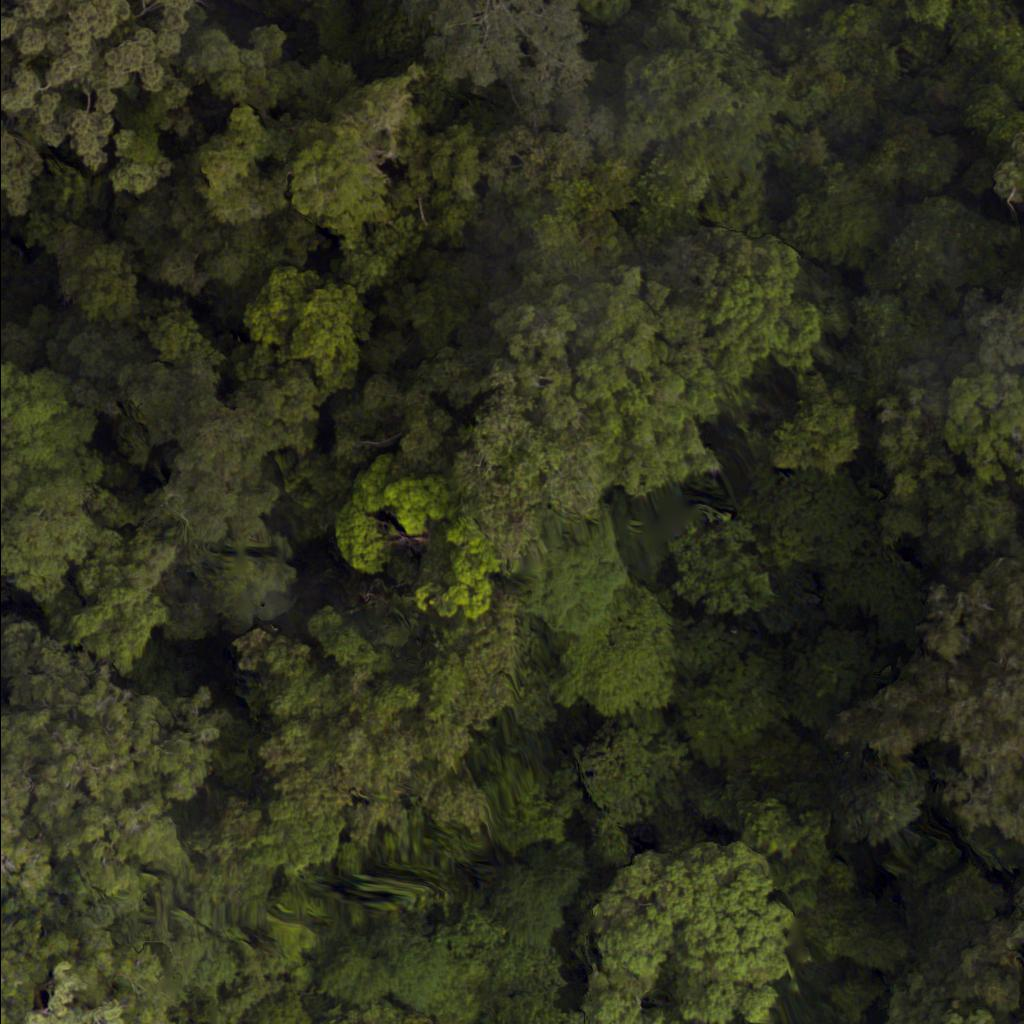crown: (0, 374, 189, 696), (842, 581, 1023, 857), (585, 835, 796, 1023), (380, 0, 600, 113), (0, 0, 151, 163)
